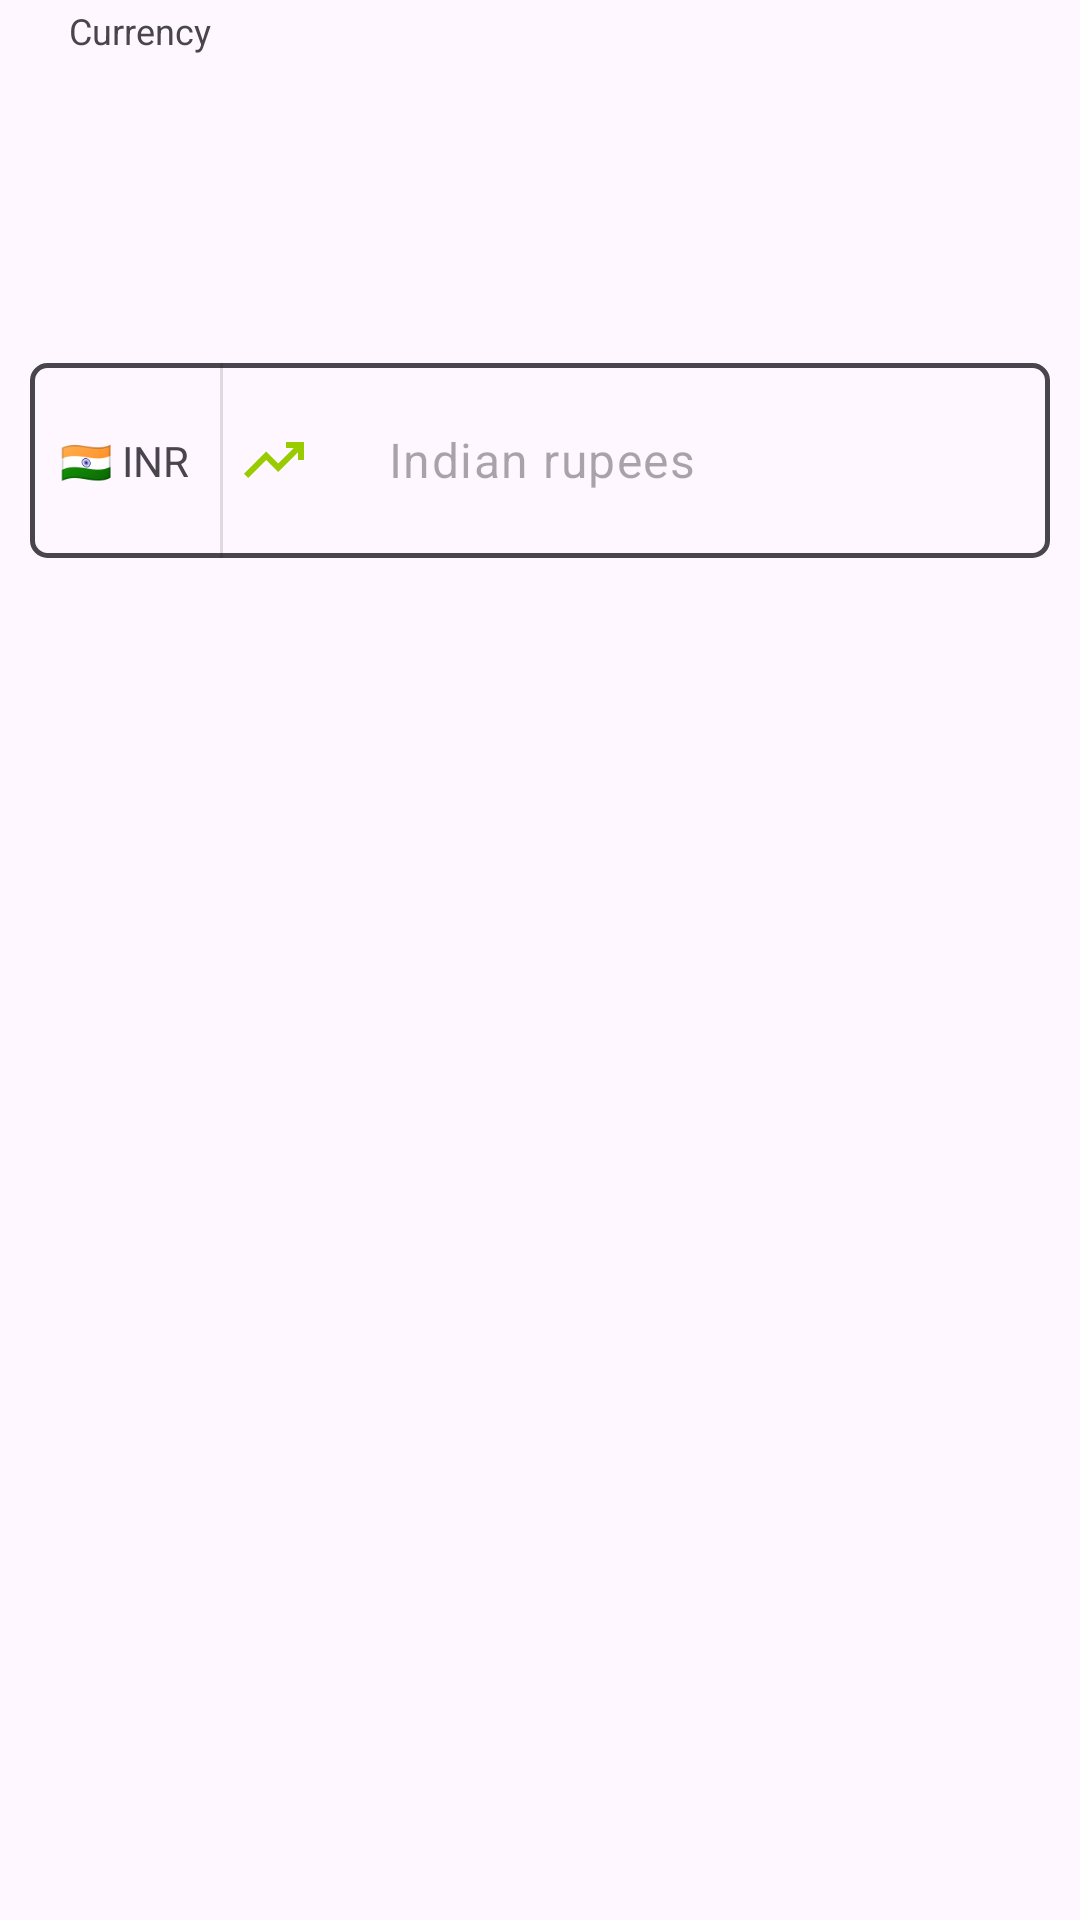

Icons on this 1080×1920 Android screen, each with its box as Rect(x1, y1, x2, y2):
trending up: Rect(244, 442, 304, 478)
